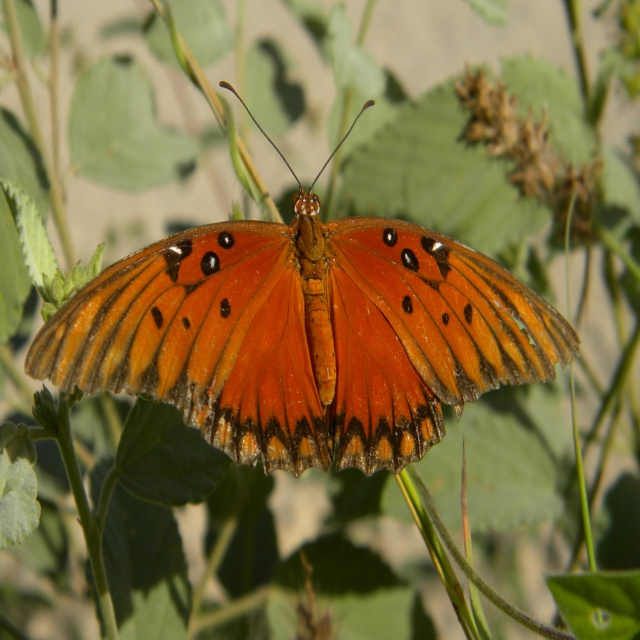Butterfly: (24, 81, 581, 478)
